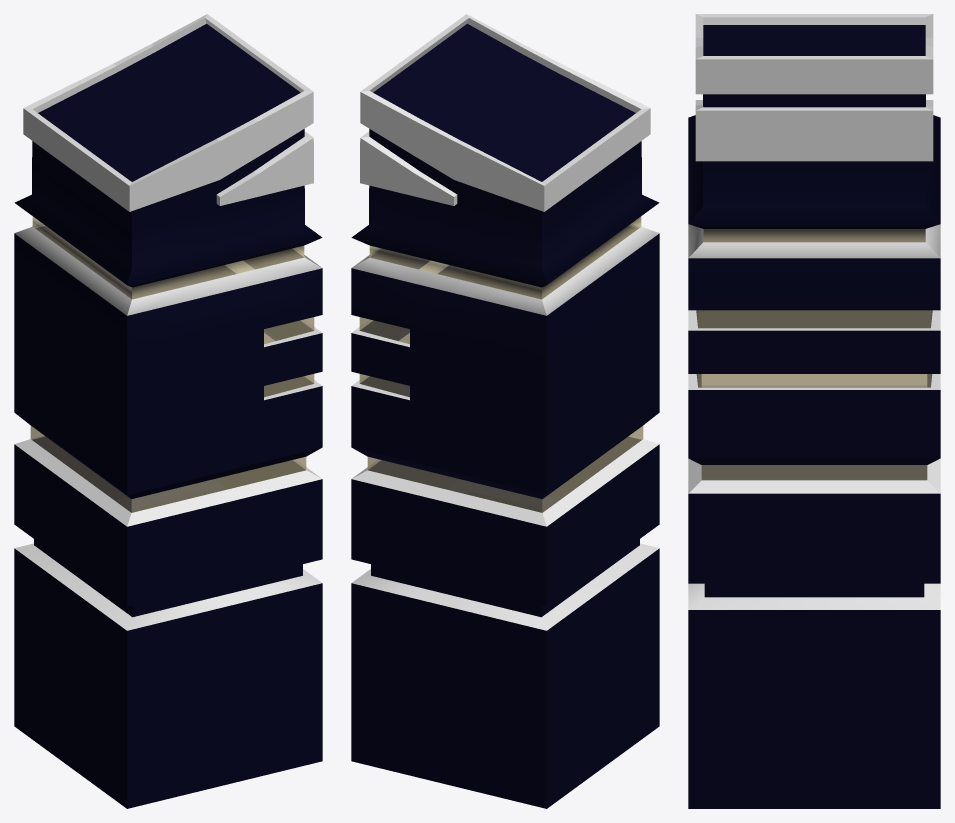
File: Jagged Building.fbx
3 renders of one model, left to right at view 1: azimuth 30°, elevation 25°; view 2: azimuth 150°, elevation 25°; view 3: azimuth 270°, elevation 25°, orthographic. The views are drawn at different scales.
Parts seen in each view (by area): view 1: Building_jagged; view 2: Building_jagged; view 3: Building_jagged.
Part boxes in pixels (x1,y1,x2,y2): Building_jagged: (14,14,322,808); Building_jagged: (351,14,659,808); Building_jagged: (688,14,940,808).
Size of the model in its own units: 30.6 by 99.98 by 30.6.
